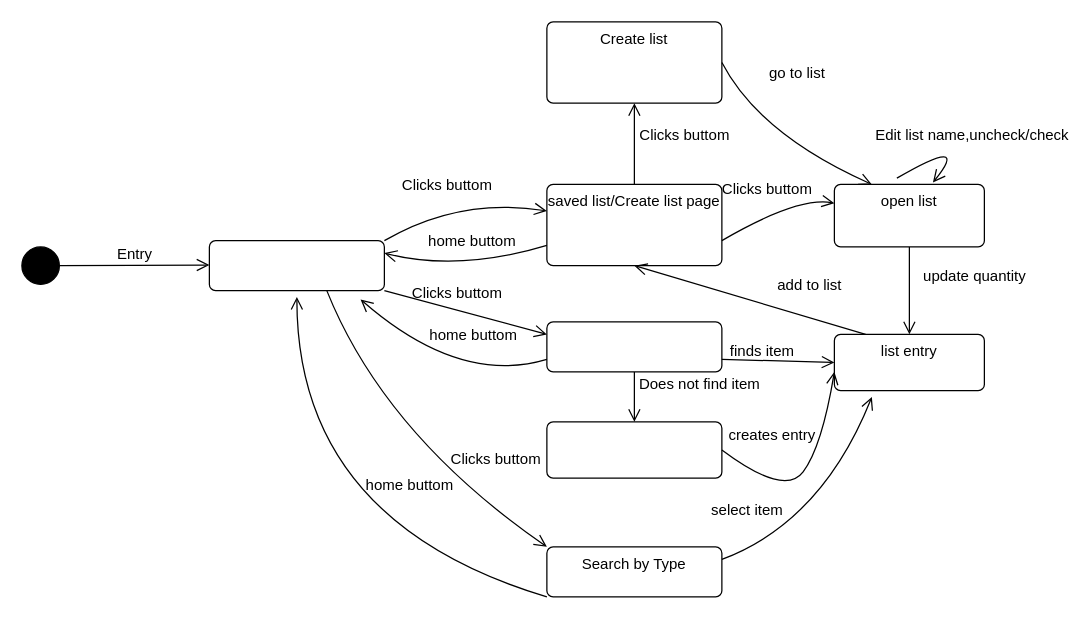
Image size: 1090x619. Some labels were removed from this diagram. Here are the shapes that lost their labels. From the top down, the box of each, then its label:
(208, 239, 384, 291): Home Page
(546, 321, 722, 372): Search by name
(546, 421, 722, 478): database entry
